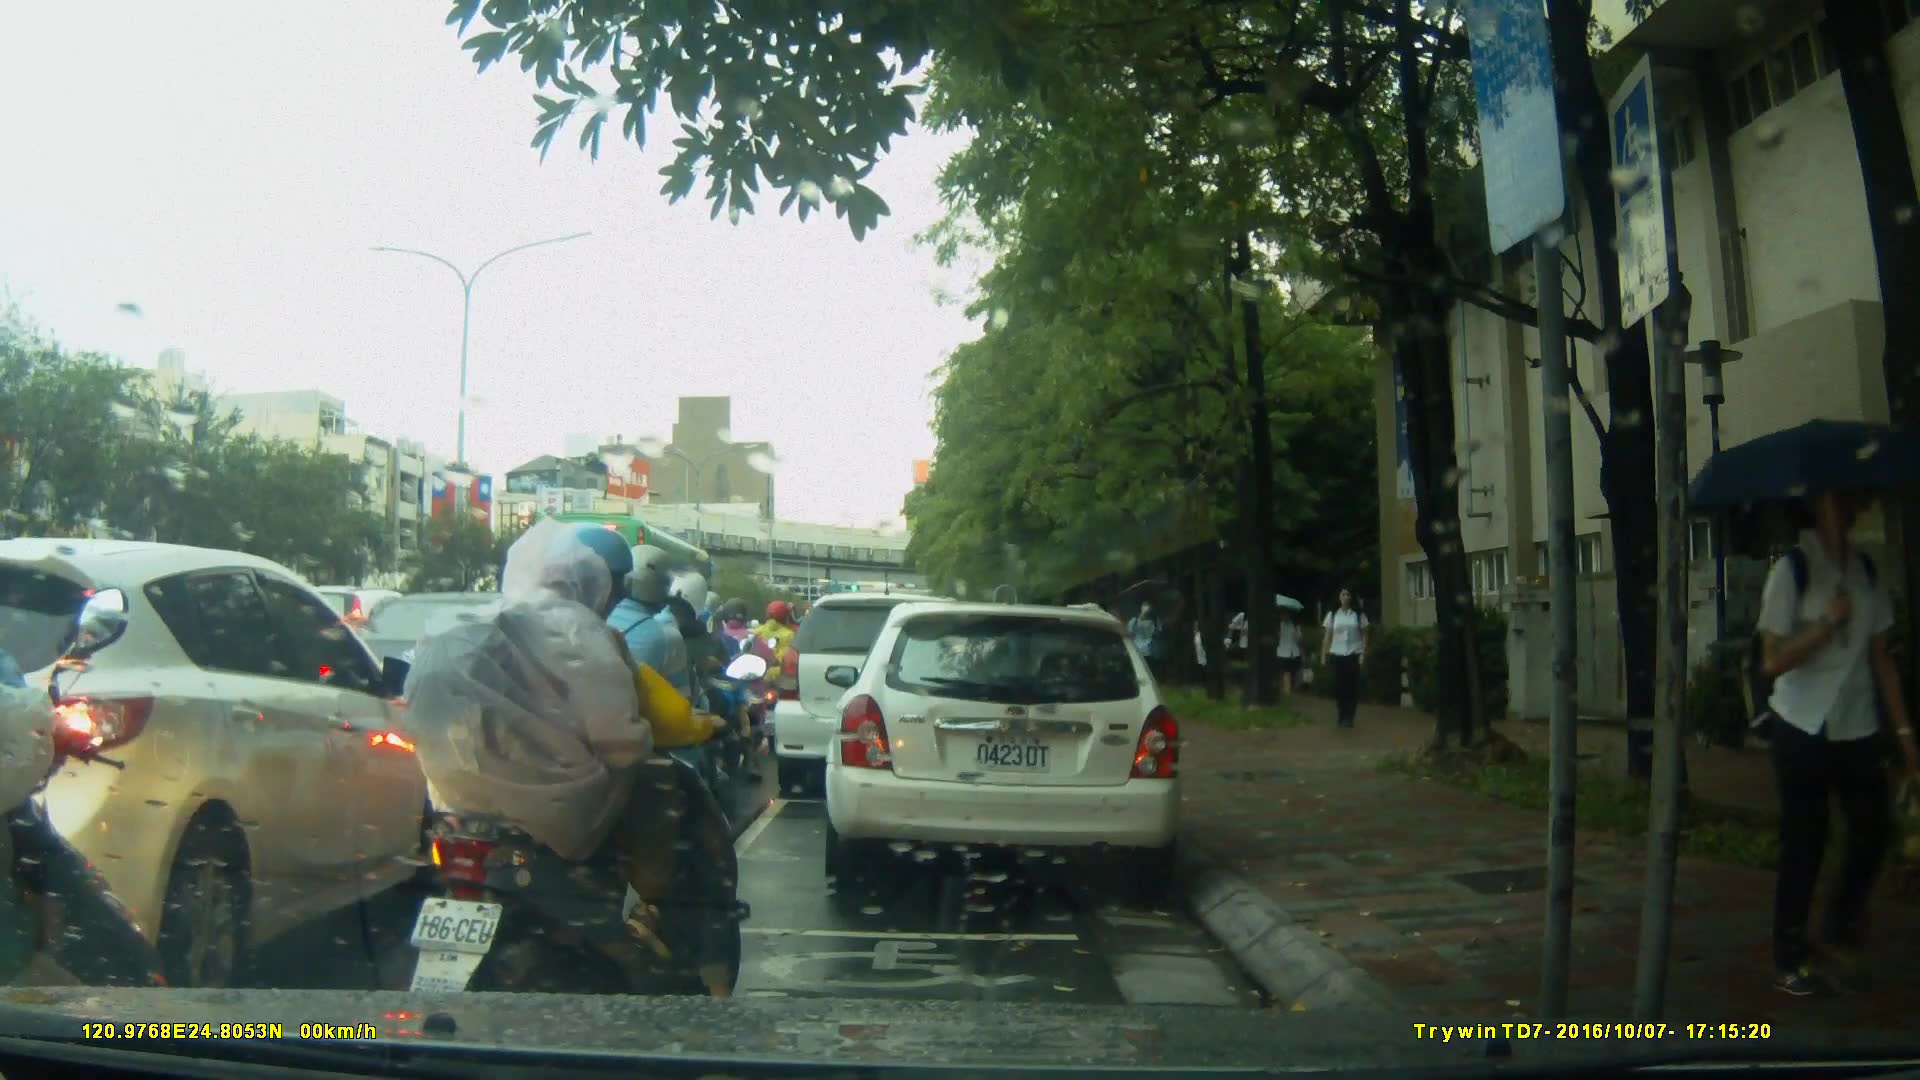pedestrian: (1742, 477, 1888, 1004), (1314, 587, 1371, 731), (1124, 589, 1169, 714)
rider: (393, 514, 753, 1073), (1, 586, 179, 1080), (541, 546, 732, 887), (608, 570, 744, 864), (707, 601, 779, 765), (754, 603, 814, 744)
vehicle: (1, 536, 442, 988), (822, 604, 1186, 881), (774, 595, 995, 802), (548, 517, 737, 667)
